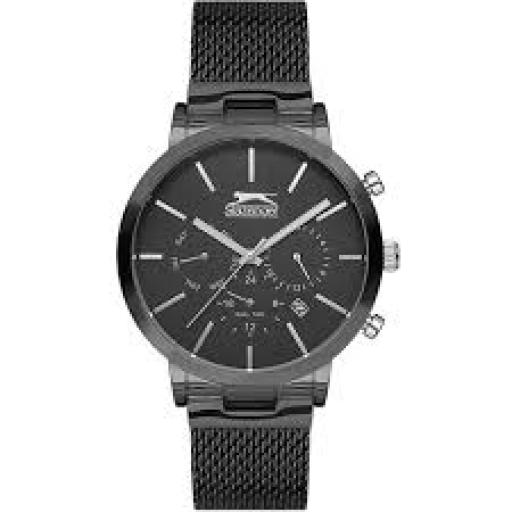KolSaati: (86, 2, 416, 512)
